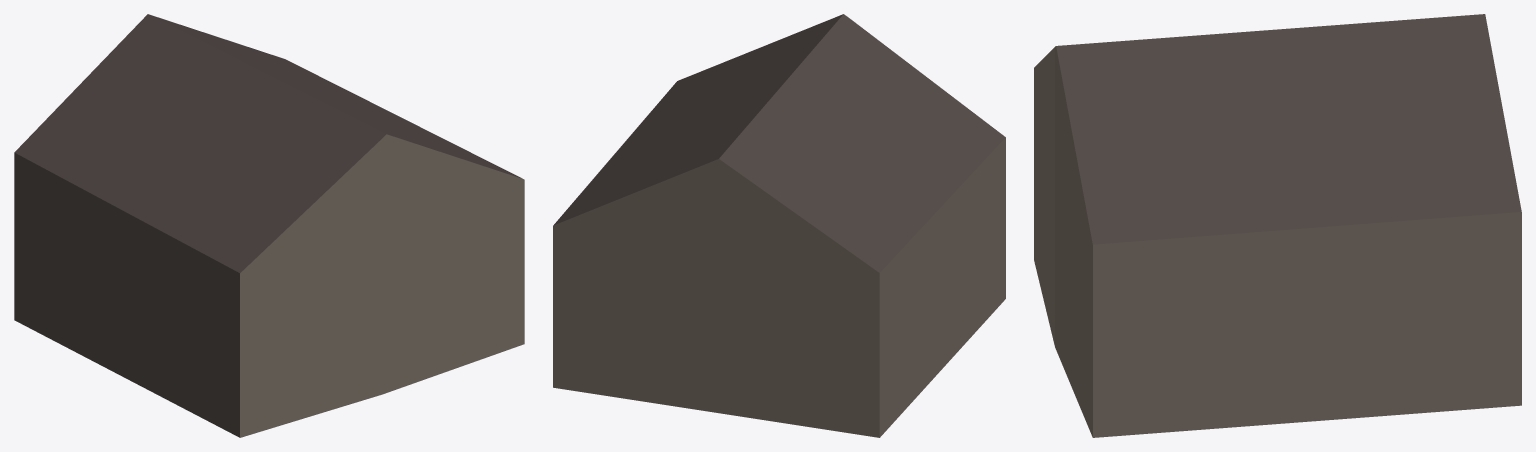
3 renders of one model, left to right at view 1: azimuth 30°, elevation 25°; view 2: azimuth 150°, elevation 25°; view 3: azimuth 270°, elevation 25°, orthographic. The views are drawn at different scales.
Parts seen in each view (by area): view 1: HP-w1376988688; view 2: HP-w1376988688; view 3: HP-w1376988688.
Part boxes in pixels (x1,y1,x2,y2): HP-w1376988688: (14,14,524,437); HP-w1376988688: (553,14,1005,437); HP-w1376988688: (1034,14,1521,437).
Bounding box in the file's own units: 13.66 × 9.44 × 13.73.
